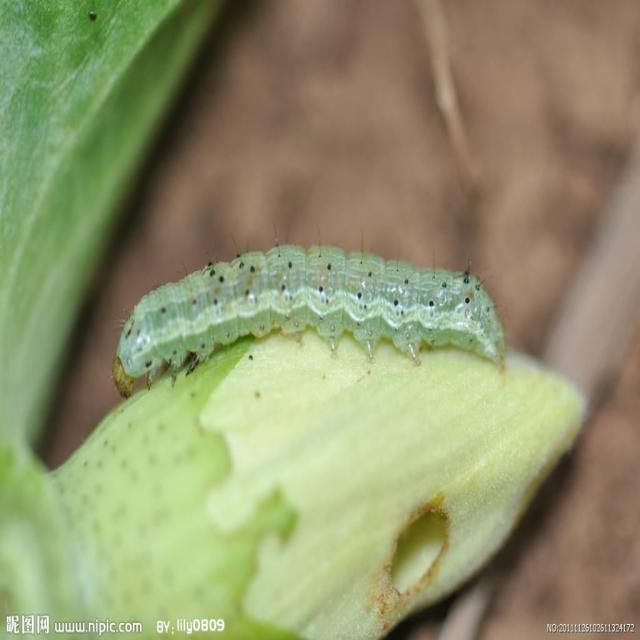BeetArmyWorm-Larva-: (101, 227, 516, 409)
